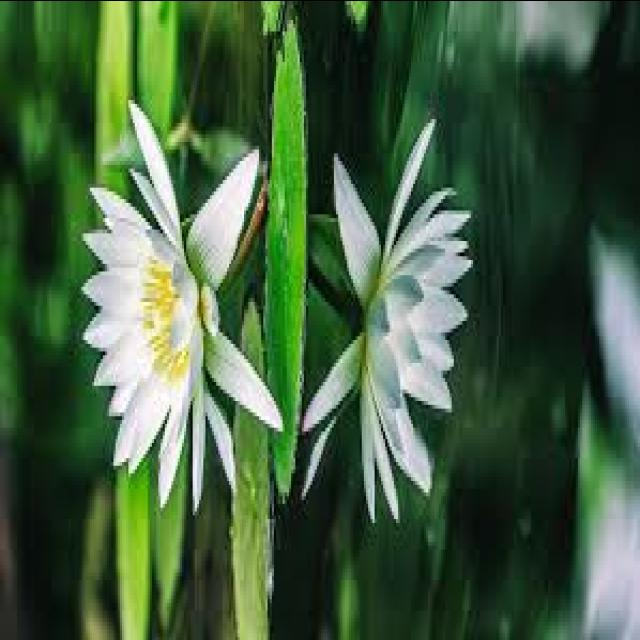lily: (68, 76, 306, 522)
